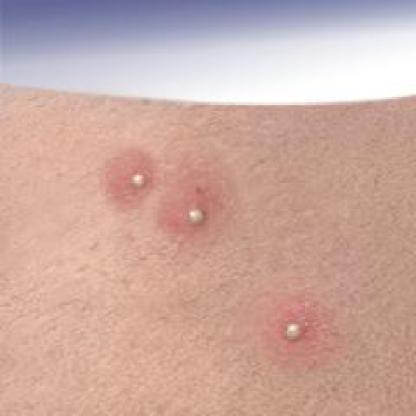Fire ant: (172, 187, 215, 231), (272, 307, 314, 352), (111, 156, 151, 201)
